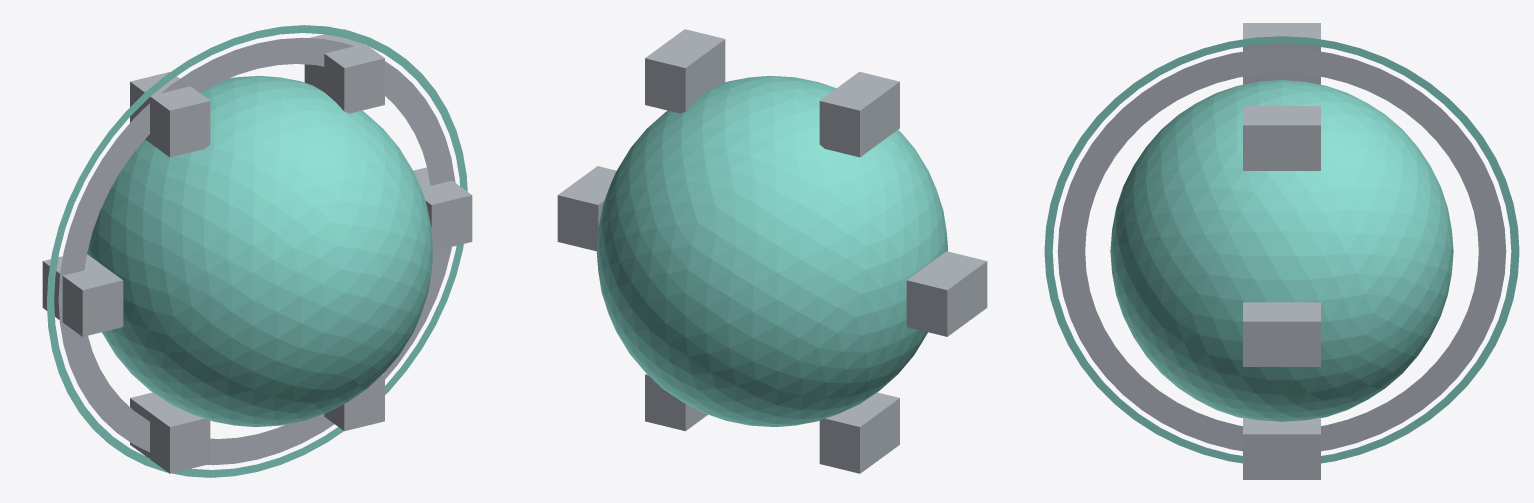
The picture shows the model from 3 angles, left to right: view 1: azimuth 30°, elevation 25°; view 2: azimuth 150°, elevation 25°; view 3: azimuth 270°, elevation 25°; orthographic projection. The views are drawn at different scales.
Visible parts, largest first — view 1: part000, part006, part007, part011, part010, part009, part012, part008, part013; view 2: part000, part011, part010, part009, part012, part008, part013; view 3: part000, part002, part003, part008, part009, part013, part010.
Boxes of the visible parts, box(x1,y1,x2,y2) form: part000: box(87, 76, 433, 426); part006: box(58, 37, 455, 465); part007: box(47, 25, 467, 477); part011: box(42, 254, 123, 336); part010: box(130, 71, 210, 157); part009: box(304, 29, 384, 113); part012: box(130, 392, 210, 473); part008: box(413, 167, 472, 251); part013: box(324, 373, 384, 431); part000: box(596, 76, 948, 426); part011: box(906, 251, 987, 336); part010: box(819, 71, 899, 157); part009: box(645, 29, 725, 113); part012: box(819, 392, 899, 473); part008: box(557, 166, 616, 251); part013: box(645, 373, 707, 431); part000: box(1110, 80, 1453, 421); part002: box(1057, 48, 1506, 451); part003: box(1044, 36, 1519, 463); part008: box(1243, 302, 1320, 366); part009: box(1243, 106, 1320, 170); part013: box(1243, 417, 1320, 479); part010: box(1243, 23, 1320, 84).
Bounding box in the file's own units: 2.08 × 2.08 × 2.08.
